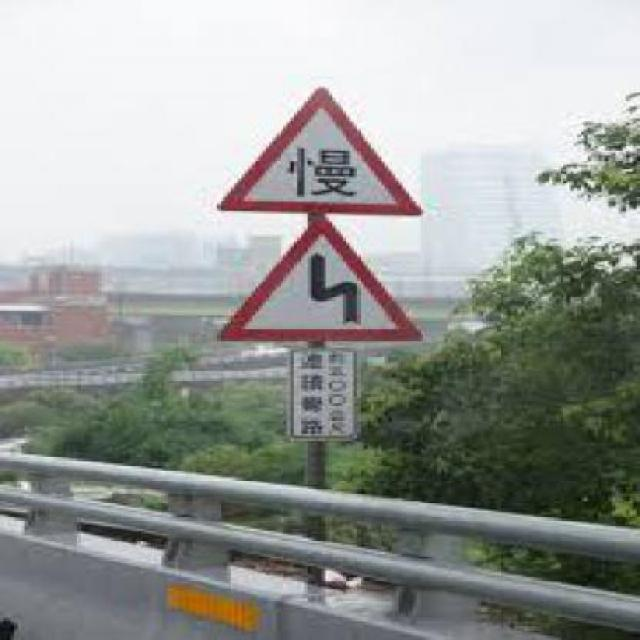warn_double_curve: (217, 216, 423, 347)
